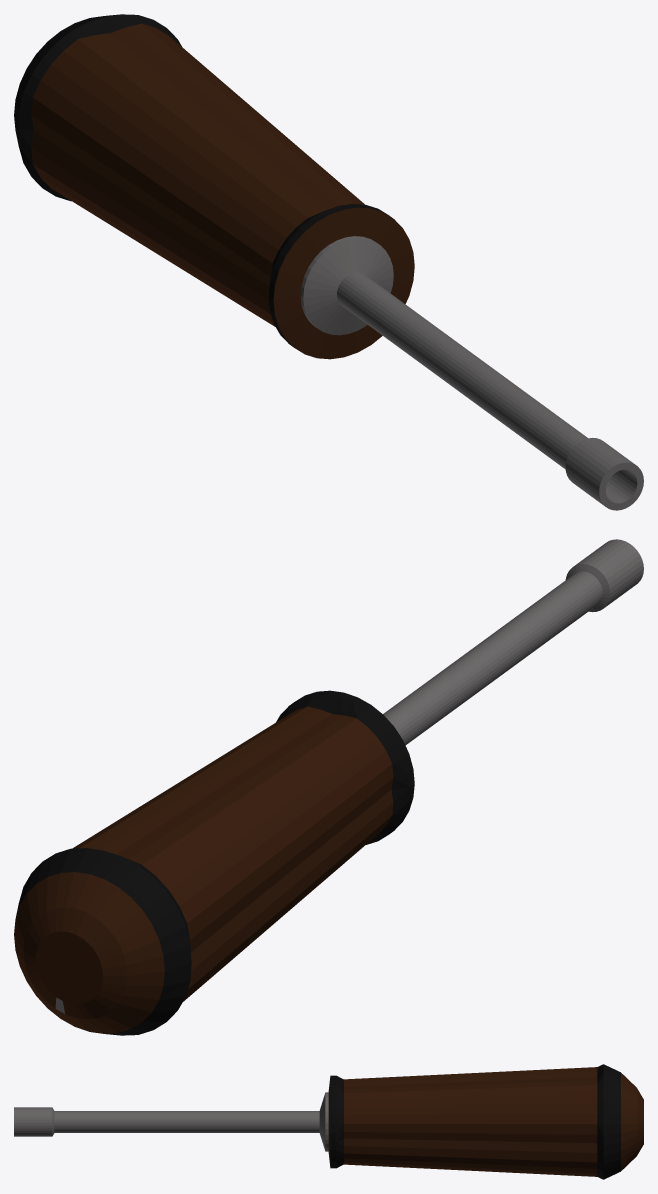
The model's file is Torq.dae.
The picture shows the model from 3 angles, top to bottom: view 1: azimuth 30°, elevation 25°; view 2: azimuth 150°, elevation 25°; view 3: azimuth 270°, elevation 25°; orthographic projection. The views are drawn at different scales.
Visible parts, largest first — view 1: ScrewDriver_Torq; view 2: ScrewDriver_Torq; view 3: ScrewDriver_Torq.
Boxes of the visible parts, box(x1,y1,x2,y2) form: ScrewDriver_Torq: box(14, 14, 643, 510); ScrewDriver_Torq: box(14, 539, 643, 1035); ScrewDriver_Torq: box(14, 1064, 643, 1179).
Size of the model in its own units: 0.1504 by 0.8266 by 0.1502.
